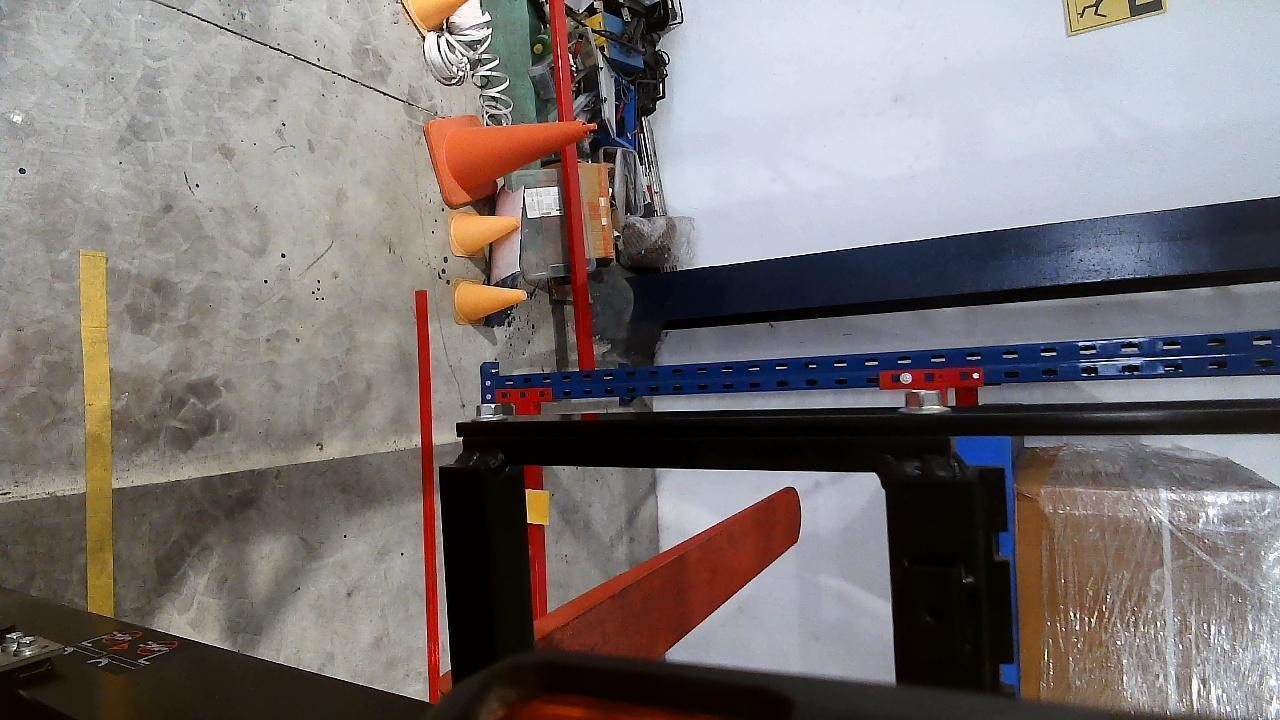red_line: (414, 290, 446, 703)
yellow_line: (80, 249, 114, 616)
